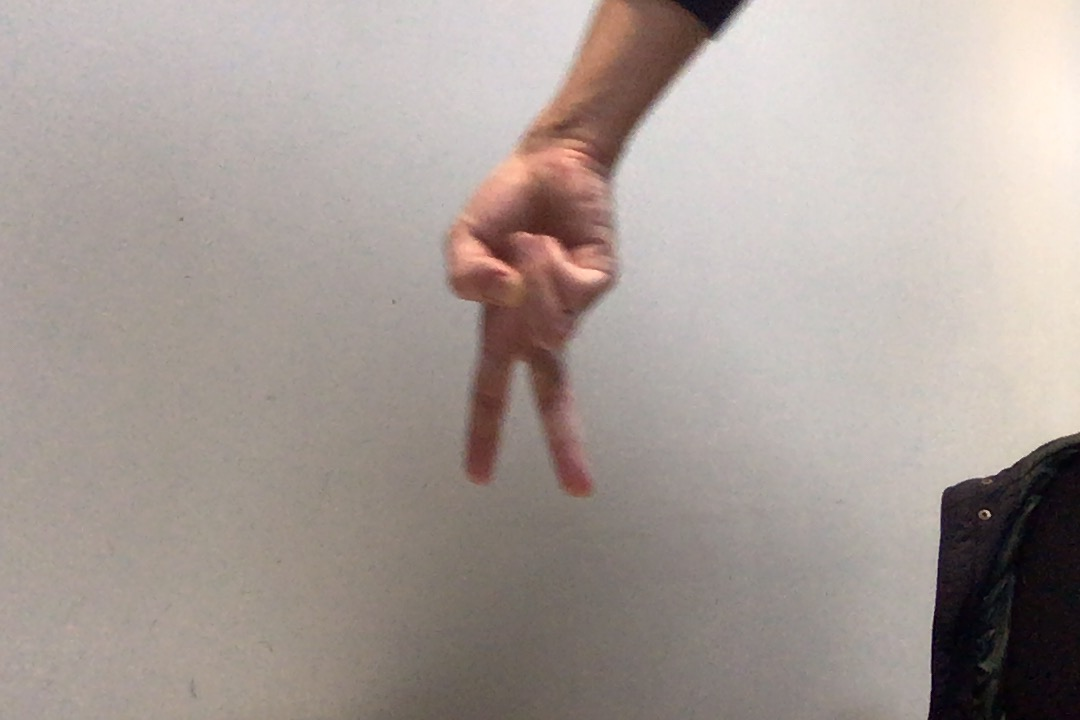peacesign: (434, 145, 628, 505)
